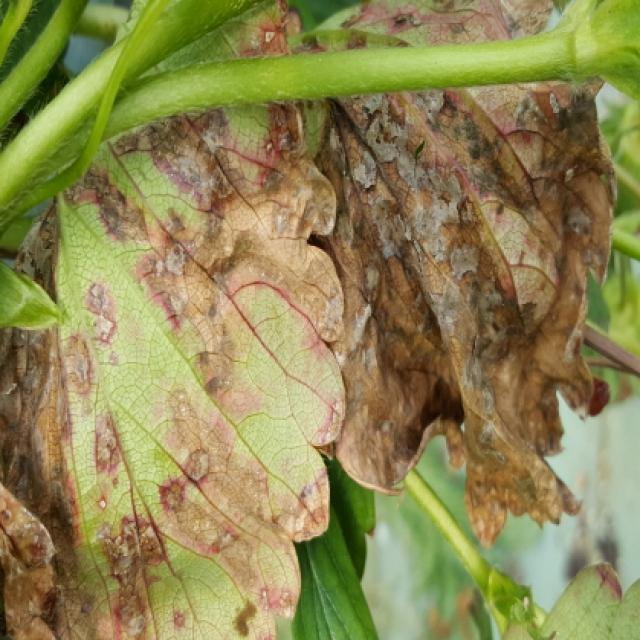Angular Leafspot: (0, 0, 348, 638), (292, 0, 620, 553), (0, 486, 60, 638)
